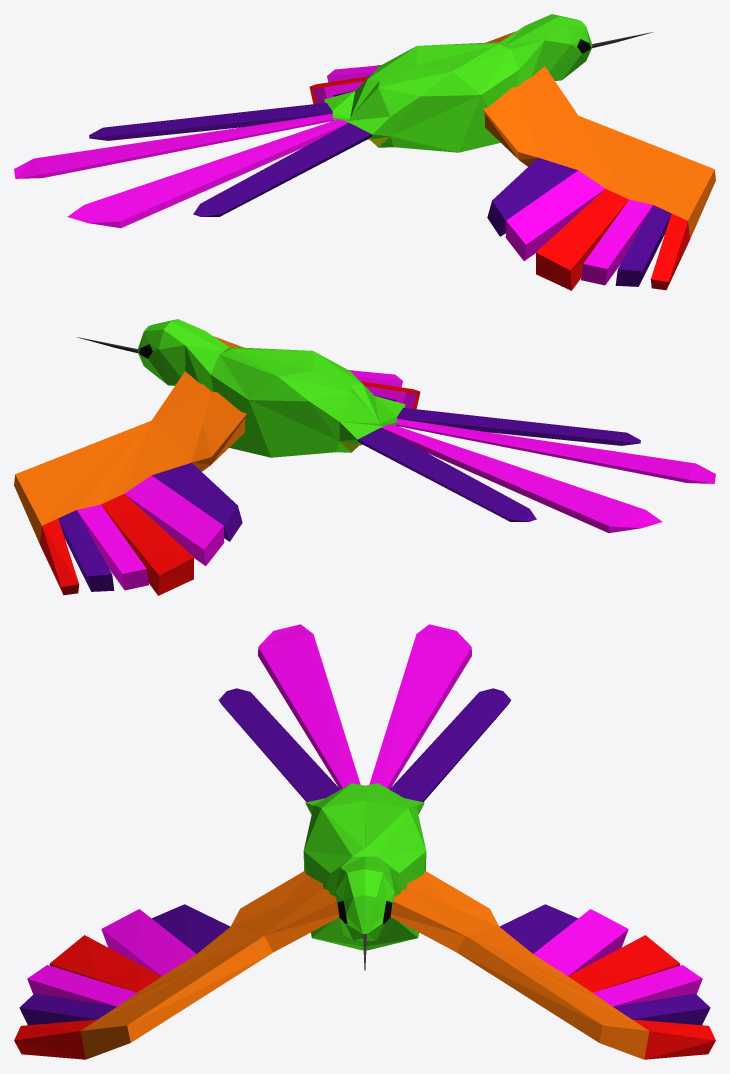
Rendered from Ab_Bird_A.FBX.
3 views of the same model, one above another, from view 1: azimuth 30°, elevation 25°; view 2: azimuth 150°, elevation 25°; view 3: azimuth 270°, elevation 25° (orthographic). The views are drawn at different scales.
Visible parts, largest first — view 1: Tail; view 2: Tail; view 3: Tail.
Boxes of the visible parts, x1,y1,x2,y2 form: Tail: [14, 14, 715, 290]; Tail: [14, 319, 715, 595]; Tail: [14, 624, 715, 1059].
Bounding box in the file's own units: 309 × 79.23 × 247.
